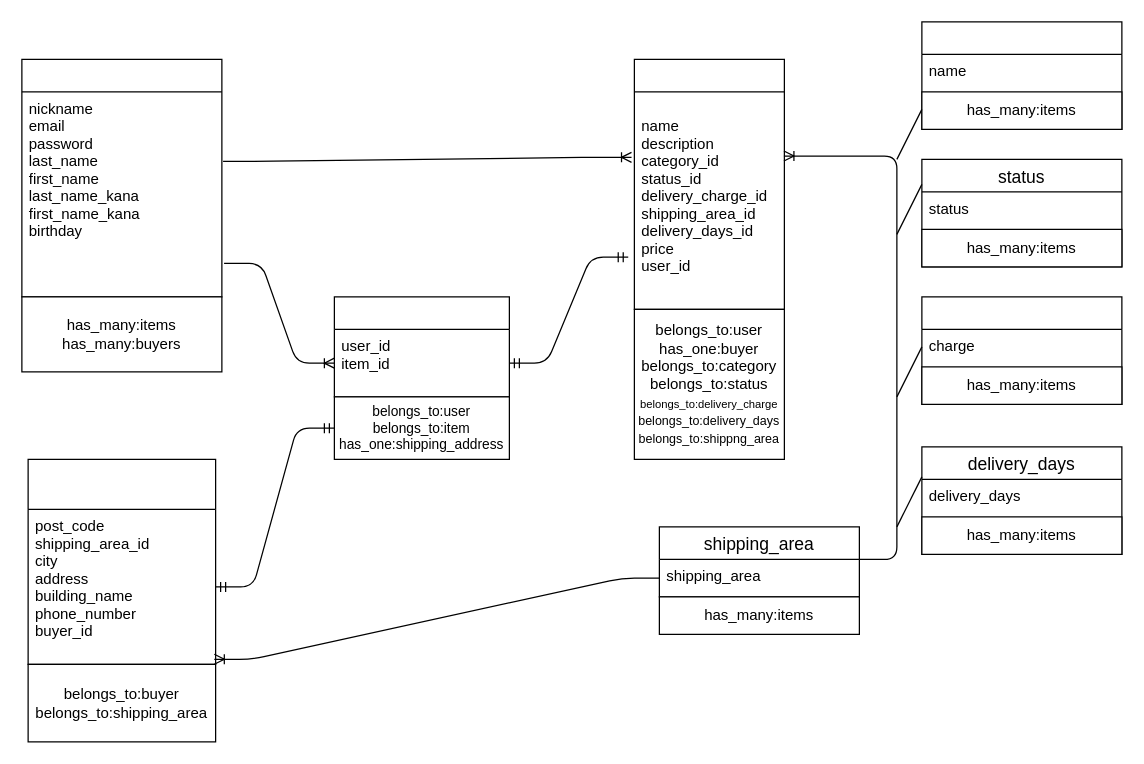
The diagram is 1144 pixels wide and 764 high, and some of its shapes have lost their labels. The shapes that lost their labels are listed below. From the top down, each one's box as (x1, y1, x2, y2) in pixels, then its label:
(921, 21, 1122, 129): categorys
(21, 58, 222, 297): usersテーブル
(633, 58, 784, 309): itemsテーブル
(333, 296, 509, 397): buyersテーブル
(921, 296, 1122, 404): delivery_charge
(27, 458, 216, 664): shipping_addressesテーブル
